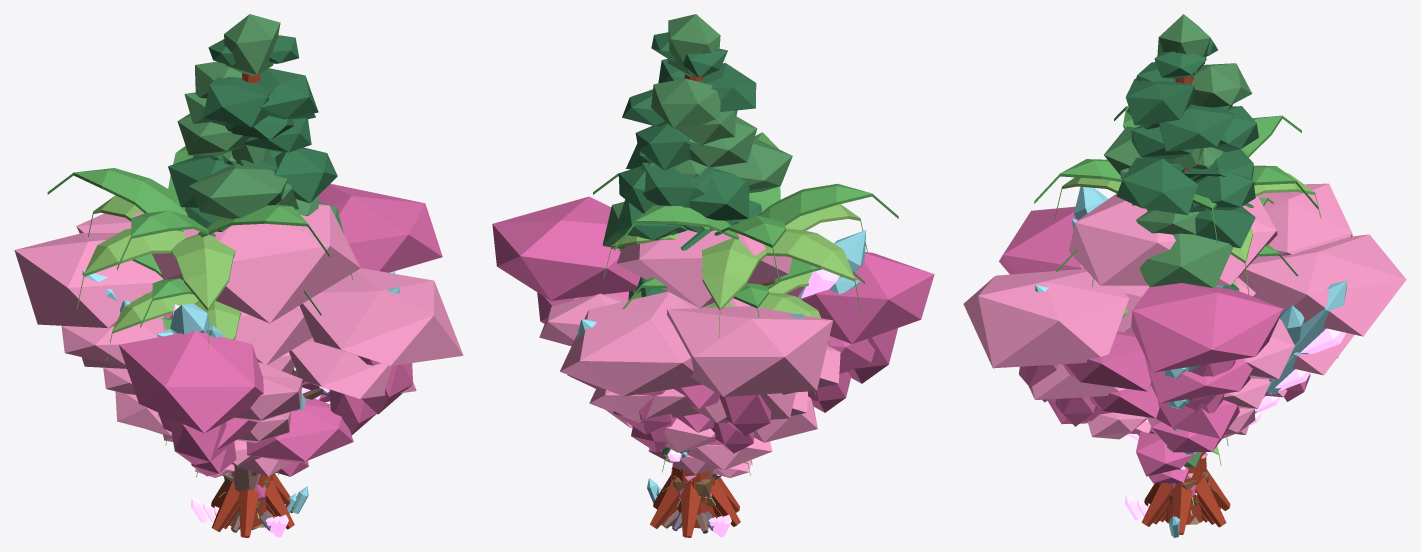
Rendered from SpecialTrees.fbx.
3 renders of one model, left to right at view 1: azimuth 30°, elevation 25°; view 2: azimuth 150°, elevation 25°; view 3: azimuth 270°, elevation 25°, orthographic.
Parts seen in each view (by area): view 1: Sakura8_Blossom.001, Sakura8_BlossomDeep.001, Redwood8_Needles.001, Redwood8_NeedlesB.001, Sakura7_Blossom.001, Palm8_FrondsB.001, Palm8_Fronds.001, Sakura6_BlossomDeep.001, Redwood8_Bark.001, Sakura7_BlossomDeep.001, Palm7_FrondsB.001, Crystal8_Crystal.001 (+5 smaller); view 2: Sakura8_Blossom.001, Sakura8_BlossomDeep.001, Redwood8_Needles.001, Redwood8_NeedlesB.001, Palm8_FrondsB.001, Palm8_Fronds.001, Sakura7_BlossomDeep.001, Sakura7_Blossom.001, Redwood8_Bark.001, Sakura6_Blossom.001, Crystal8_Crystal.001, Palm7_FrondsB.001 (+3 smaller); view 3: Sakura8_Blossom.001, Sakura8_BlossomDeep.001, Redwood8_Needles.001, Redwood8_NeedlesB.001, Sakura7_BlossomDeep.001, Sakura7_Blossom.001, Redwood8_Bark.001, Palm8_Fronds.001, Crystal8_Crystal.001, Sakura6_BlossomDeep.001, Sakura6_Blossom.001, Palm8_FrondsB.001 (+5 smaller).
Part boxes in pixels (x1=…): Sakura8_Blossom.001: x1=14, y1=204, x2=463, y2=422; Sakura8_BlossomDeep.001: x1=119, y1=183, x2=442, y2=464; Redwood8_Needles.001: x1=168, y1=35, x2=337, y2=231; Redwood8_NeedlesB.001: x1=177, y1=14, x2=344, y2=234; Sakura7_Blossom.001: x1=81, y1=305, x2=416, y2=442; Palm8_FrondsB.001: x1=77, y1=195, x2=353, y2=348; Palm8_Fronds.001: x1=47, y1=146, x2=329, y2=270; Sakura6_BlossomDeep.001: x1=246, y1=398, x2=353, y2=463; Redwood8_Bark.001: x1=211, y1=73, x2=294, y2=537; Sakura7_BlossomDeep.001: x1=158, y1=381, x2=376, y2=476; Palm7_FrondsB.001: x1=106, y1=292, x2=241, y2=361; Crystal8_Crystal.001: x1=82, y1=270, x2=399, y2=513; Sakura8_Blossom.001: x1=539, y1=230, x2=840, y2=396; Sakura8_BlossomDeep.001: x1=492, y1=196, x2=934, y2=435; Redwood8_Needles.001: x1=614, y1=32, x2=761, y2=250; Redwood8_NeedlesB.001: x1=602, y1=14, x2=792, y2=249; Palm8_FrondsB.001: x1=603, y1=204, x2=867, y2=337; Palm8_Fronds.001: x1=593, y1=132, x2=898, y2=281; Sakura7_BlossomDeep.001: x1=537, y1=291, x2=874, y2=453; Sakura7_Blossom.001: x1=589, y1=298, x2=807, y2=423; Redwood8_Bark.001: x1=650, y1=74, x2=740, y2=537; Sakura6_Blossom.001: x1=606, y1=396, x2=817, y2=452; Crystal8_Crystal.001: x1=577, y1=230, x2=865, y2=503; Palm7_FrondsB.001: x1=628, y1=272, x2=829, y2=347; Sakura8_Blossom.001: x1=963, y1=183, x2=1406, y2=379; Sakura8_BlossomDeep.001: x1=999, y1=206, x2=1338, y2=404; Redwood8_Needles.001: x1=1116, y1=36, x2=1258, y2=248; Redwood8_NeedlesB.001: x1=1104, y1=14, x2=1252, y2=288; Sakura7_BlossomDeep.001: x1=1055, y1=356, x2=1310, y2=426; Sakura7_Blossom.001: x1=1029, y1=277, x2=1354, y2=408; Redwood8_Bark.001: x1=1141, y1=76, x2=1230, y2=534; Palm8_Fronds.001: x1=1034, y1=106, x2=1318, y2=243; Crystal8_Crystal.001: x1=1035, y1=186, x2=1346, y2=537; Sakura6_BlossomDeep.001: x1=1047, y1=399, x2=1239, y2=438; Sakura6_Blossom.001: x1=1088, y1=389, x2=1287, y2=439; Palm8_FrondsB.001: x1=1054, y1=173, x2=1321, y2=294.
Bounding box in the file's own units: 49.04 × 66.35 × 52.89.
